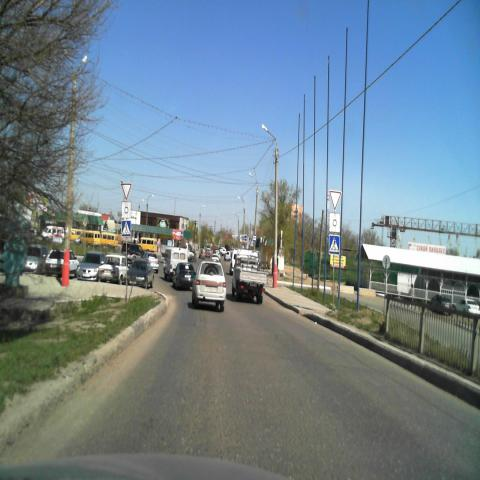8_13_1: (329, 213, 340, 233), (122, 202, 131, 218)
